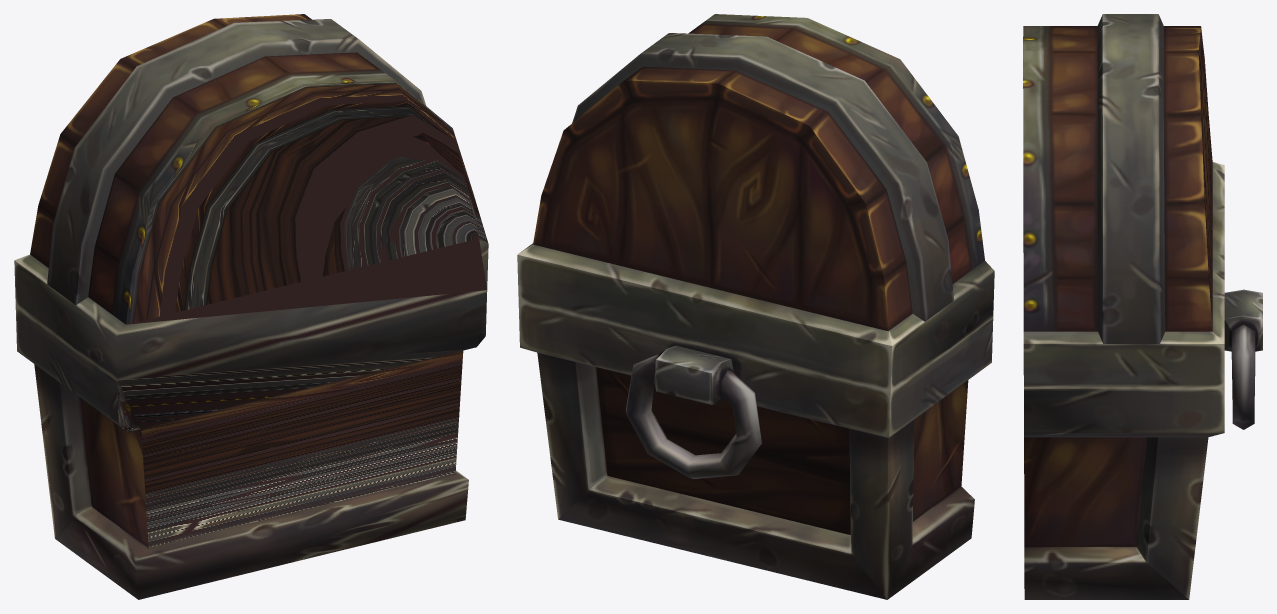
File: chest_close36.fbx
3 views of the same model, side by side, from view 1: azimuth 30°, elevation 25°; view 2: azimuth 150°, elevation 25°; view 3: azimuth 270°, elevation 25° (orthographic). The views are drawn at different scales.
Parts seen in each view (by area): view 1: chest_close.002; view 2: chest_close.002; view 3: chest_close.002.
Part boxes in pixels (left/top/right/bottom): chest_close.002: left=14, top=14, right=488, bottom=599; chest_close.002: left=517, top=14, right=994, bottom=599; chest_close.002: left=1023, top=14, right=1262, bottom=599.
Bounding box in the file's own units: 42.84 × 53.61 × 24.25.
